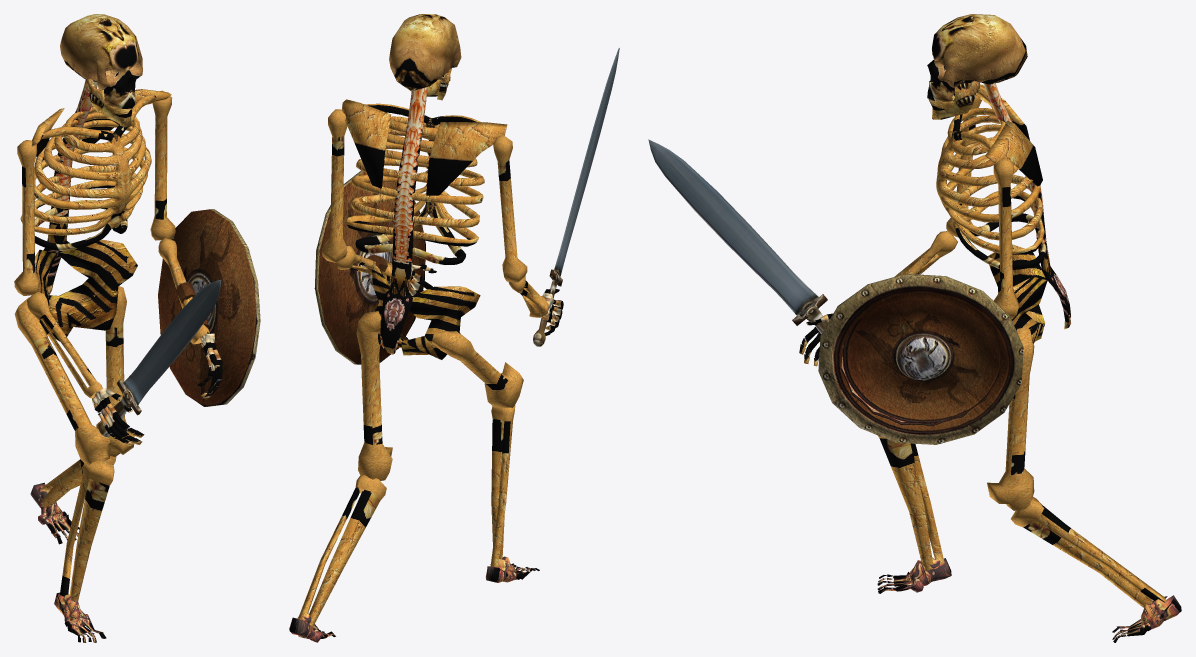
The model's file is Skeleton_000019.obj.
The picture shows the model from 3 angles, left to right: view 1: azimuth 30°, elevation 25°; view 2: azimuth 150°, elevation 25°; view 3: azimuth 270°, elevation 25°; orthographic projection. The views are drawn at different scales.
Visible parts, largest first — view 1: Shield_Shield.001, Costillar, Coxis, Femur, Skull, Tibia, Humero, Sword, Radio, Hands, Feet, Omoplato (+1 smaller); view 2: Costillar, Shield_Shield.001, Femur, Tibia, Omoplato, Humero, Skull, Coxis, Sword, Radio, Feet, Hands; view 3: Shield_Shield.001, Costillar, Tibia, Sword, Skull, Femur, Humero, Feet, Coxis, Omoplato, Mandibula, Radio.
Boxes of the visible parts, x1=… form: Shield_Shield.001: x1=158, y1=209, x2=260, y2=406; Costillar: x1=20, y1=80, x2=156, y2=295; Coxis: x1=35, y1=237, x2=137, y2=341; Femur: x1=14, y1=286, x2=134, y2=465; Skull: x1=60, y1=14, x2=142, y2=108; Tibia: x1=41, y1=456, x2=116, y2=601; Humero: x1=14, y1=90, x2=175, y2=295; Sword: x1=98, y1=280, x2=221, y2=437; Radio: x1=27, y1=238, x2=209, y2=398; Hands: x1=92, y1=332, x2=222, y2=445; Feet: x1=30, y1=482, x2=106, y2=642; Omoplato: x1=31, y1=89, x2=171, y2=160; Costillar: x1=346, y1=87, x2=484, y2=354; Shield_Shield.001: x1=314, y1=170, x2=425, y2=364; Femur: x1=356, y1=311, x2=523, y2=480; Tibia: x1=298, y1=405, x2=515, y2=627; Omoplato: x1=341, y1=99, x2=507, y2=195; Humero: x1=321, y1=109, x2=527, y2=282; Skull: x1=389, y1=14, x2=461, y2=91; Coxis: x1=371, y1=264, x2=480, y2=359; Sword: x1=533, y1=48, x2=619, y2=346; Radio: x1=336, y1=246, x2=548, y2=317; Feet: x1=289, y1=556, x2=539, y2=642; Hands: x1=409, y1=263, x2=563, y2=335; Shield_Shield.001: x1=818, y1=274, x2=1023, y2=444; Costillar: x1=936, y1=83, x2=1070, y2=329; Tibia: x1=877, y1=435, x2=1165, y2=607; Sword: x1=648, y1=139, x2=828, y2=333; Skull: x1=927, y1=14, x2=1027, y2=101; Femur: x1=987, y1=327, x2=1034, y2=510; Humero: x1=946, y1=96, x2=1019, y2=319; Feet: x1=877, y1=557, x2=1181, y2=642; Coxis: x1=988, y1=244, x2=1047, y2=343; Omoplato: x1=967, y1=83, x2=1042, y2=186; Mandibula: x1=928, y1=80, x2=979, y2=119; Radio: x1=894, y1=231, x2=957, y2=276.
Size of the model in its own units: 2.83 by 8.29 by 6.63.
Materials: 5 (5 with a texture image).
